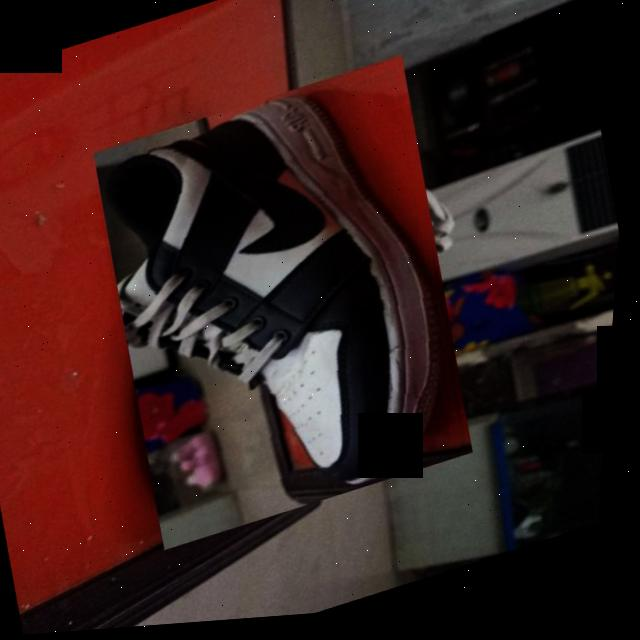shoe: (72, 55, 504, 559)
